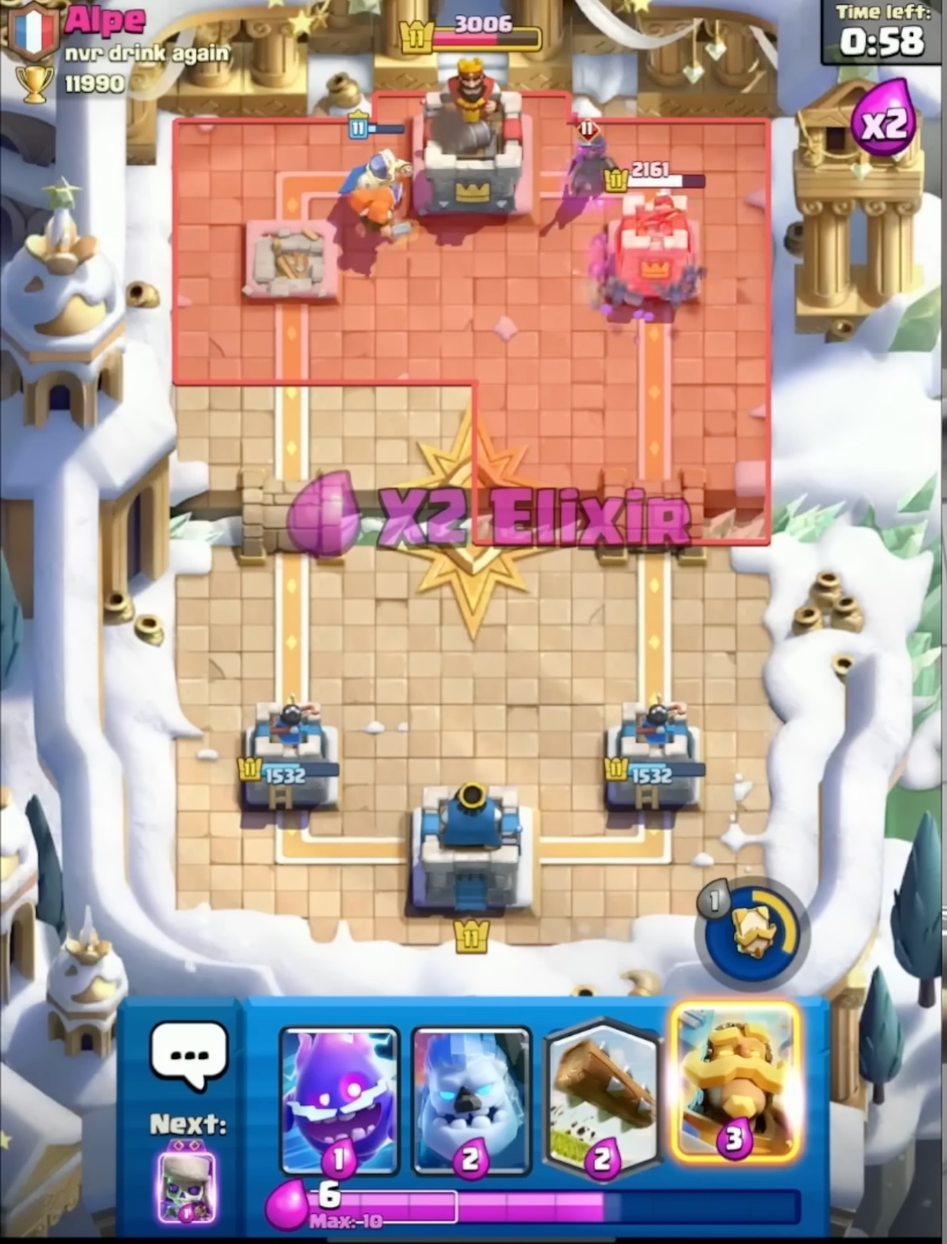evo-musketeer: (550, 106, 626, 218)
